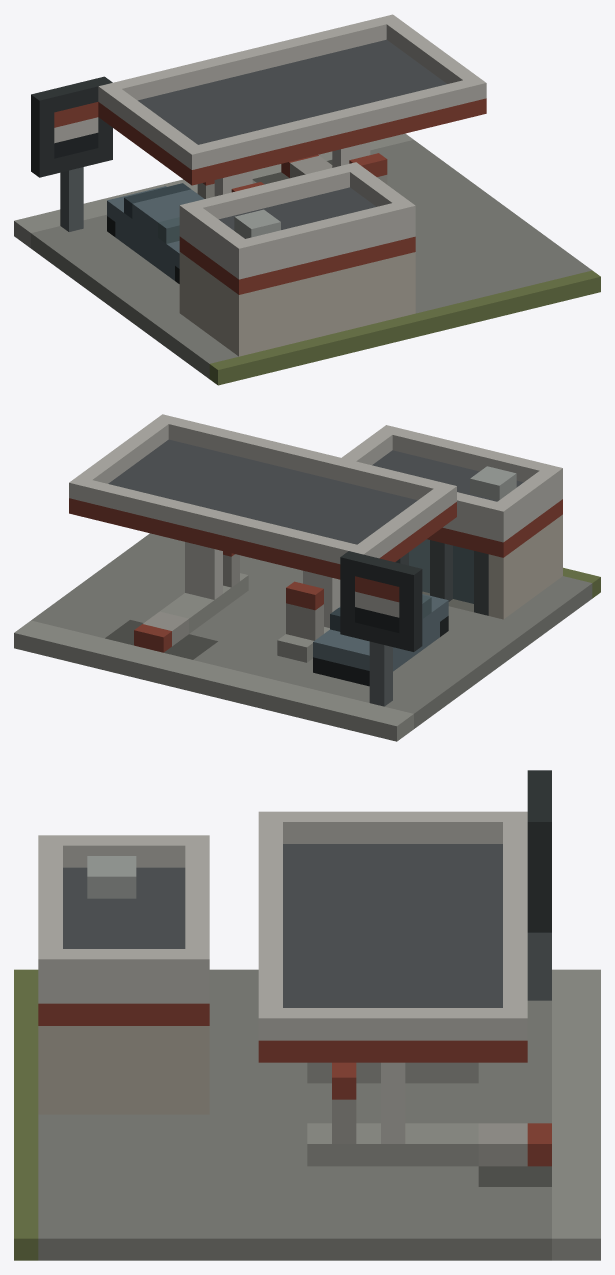
The model's file is Claude_gas_station.glb.
The picture shows the model from 3 angles, top to bottom: view 1: azimuth 30°, elevation 25°; view 2: azimuth 150°, elevation 25°; view 3: azimuth 270°, elevation 25°; orthographic projection. The views are drawn at different scales.
Parts seen in each view (by area): view 1: Claude_gas_station; view 2: Claude_gas_station; view 3: Claude_gas_station.
Boxes of the visible parts, box(x1,y1,x2,y2) form: Claude_gas_station: box(14, 14, 600, 385); Claude_gas_station: box(14, 414, 600, 741); Claude_gas_station: box(14, 770, 600, 1260).
Bounding box in the file's own units: 13 × 5 × 12.
